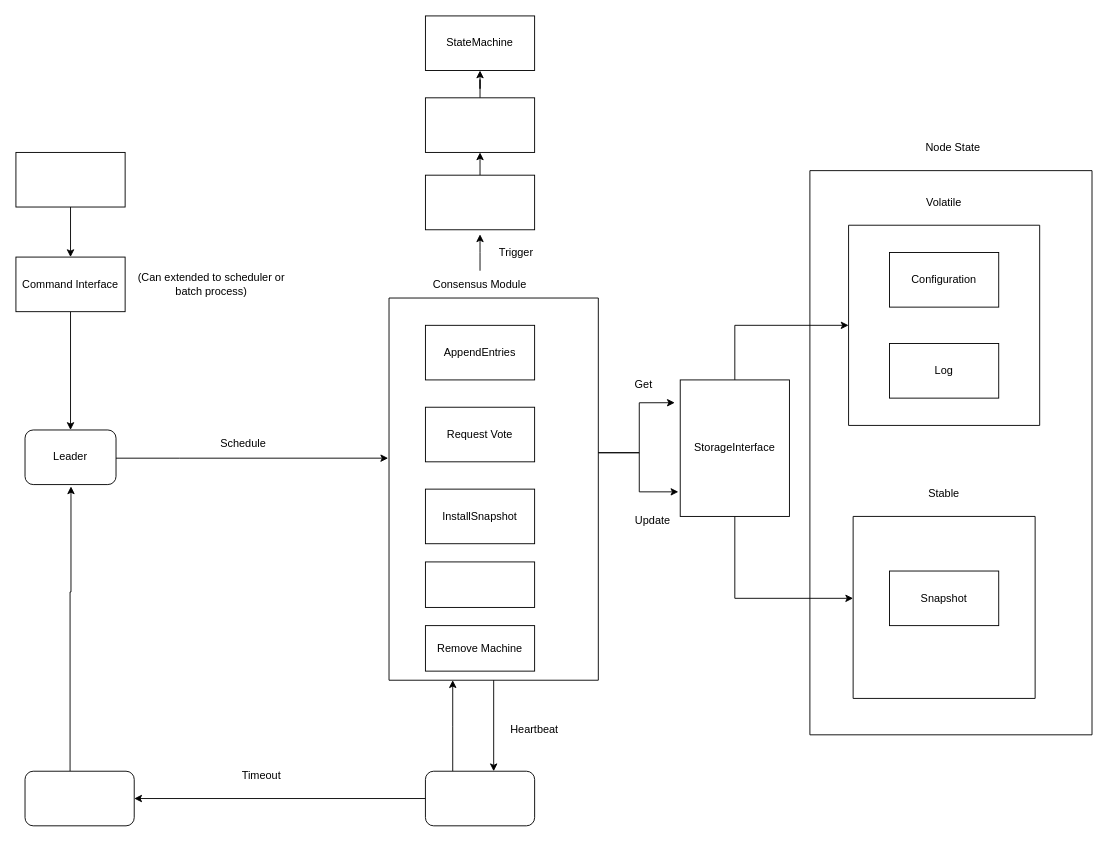
Image size: 1108x842. Some labels were removed from this diagram. Here are the shapes that lost their labels. From the top down, the centre of each, then its label:
the point at 480,124: Handler
the point at 70,179: Client
the point at 480,202: Execution Interface
the point at 480,584: AddMachine
the point at 79,798: Candidate
the point at 480,798: Follower
